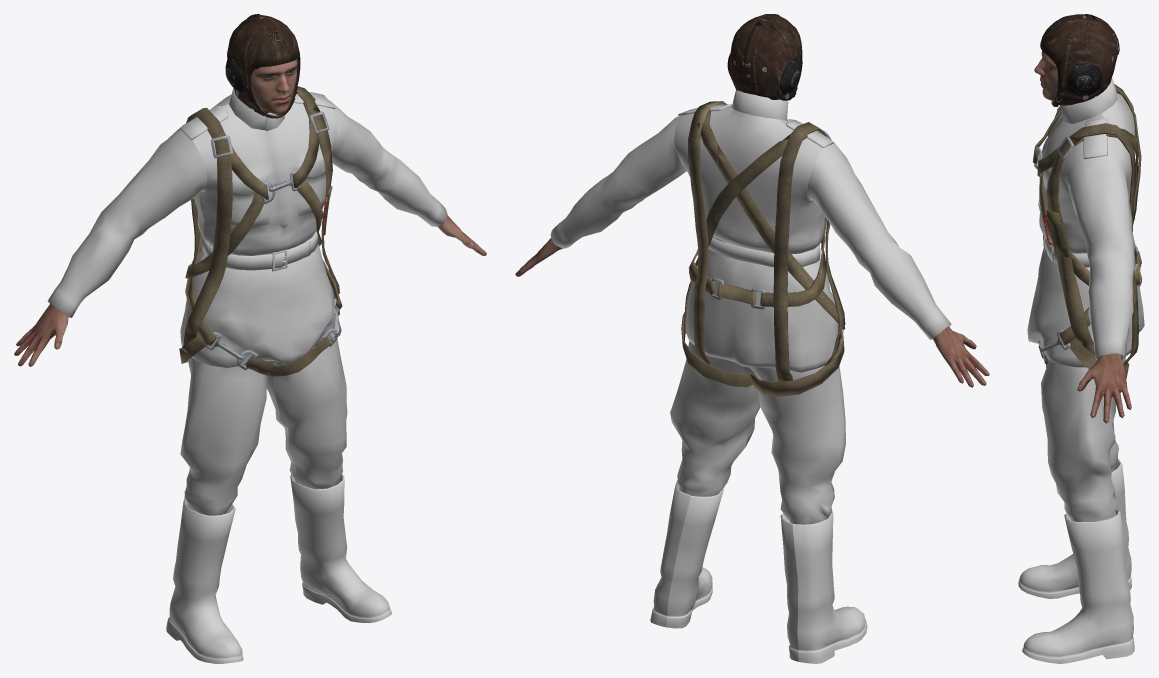
The model's file is Russian pilot.fbx.
3 views of the same model, side by side, from view 1: azimuth 30°, elevation 25°; view 2: azimuth 150°, elevation 25°; view 3: azimuth 270°, elevation 25° (orthographic).
Parts seen in each view (by area): view 1: lib_sov_pilot.005, lib_sov_pilot.001, lib_sov_pilot.002, lib_sov_pilot.004, lib_sov_pilot; view 2: lib_sov_pilot.005, lib_sov_pilot.001, lib_sov_pilot.002, lib_sov_pilot.004; view 3: lib_sov_pilot.005, lib_sov_pilot.001, lib_sov_pilot.002, lib_sov_pilot.004, lib_sov_pilot.
Part boxes in pixels (box(x1,y1,x2,y2)): lib_sov_pilot.005: box(47, 88, 447, 663); lib_sov_pilot.001: box(179, 86, 342, 376); lib_sov_pilot.002: box(225, 14, 300, 118); lib_sov_pilot.004: box(14, 215, 486, 366); lib_sov_pilot: box(251, 59, 297, 114); lib_sov_pilot.005: box(550, 90, 951, 663); lib_sov_pilot.001: box(681, 101, 845, 396); lib_sov_pilot.002: box(727, 14, 802, 100); lib_sov_pilot.004: box(515, 238, 989, 387); lib_sov_pilot.005: box(1018, 78, 1144, 663); lib_sov_pilot.001: box(1033, 84, 1141, 378); lib_sov_pilot.002: box(1040, 14, 1119, 106); lib_sov_pilot.004: box(1077, 353, 1131, 423); lib_sov_pilot: box(1034, 51, 1057, 100).
Size of the model in its own units: 14503 by 18246 by 3458.
